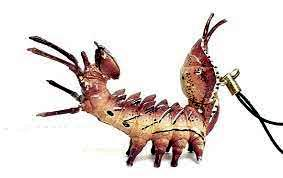Lobster Moth: (47, 19, 233, 165)
